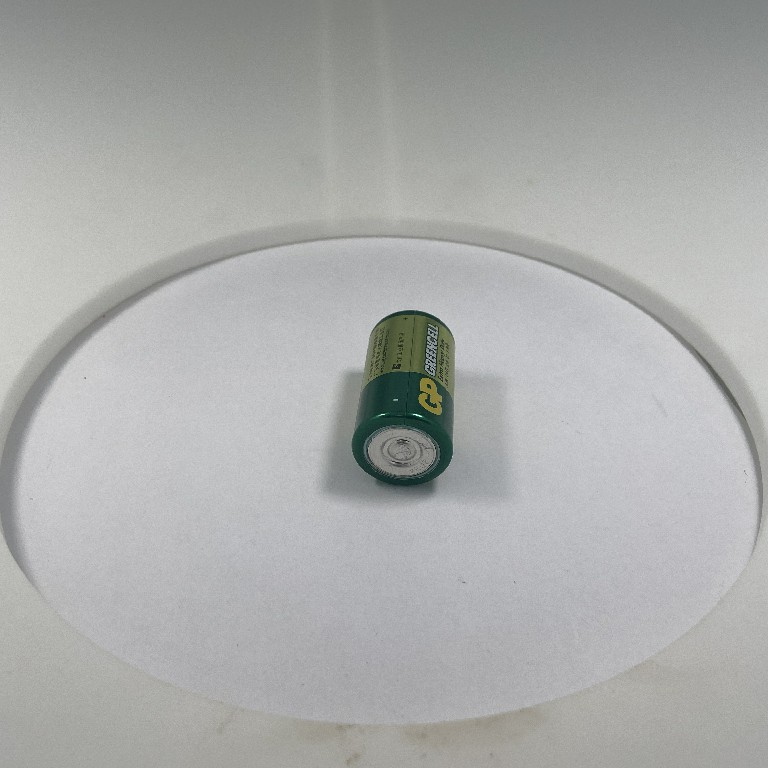charge: (348, 305, 468, 491)
